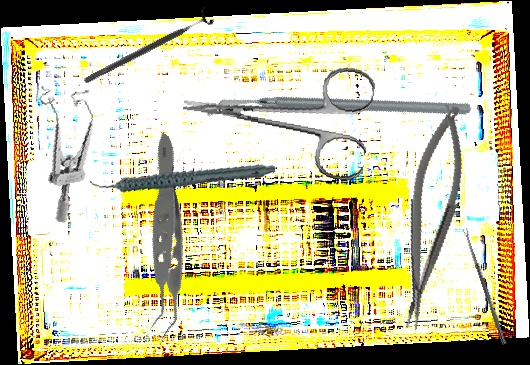Chopper: (206, 3, 474, 216)
Fixation Ring: (79, 4, 216, 91)
Handpiece: (89, 138, 276, 214)
Iris Scissors: (176, 45, 377, 183)
Needle Holder: (382, 101, 478, 333)
Speculum: (27, 74, 116, 226)
Surgical Spoon: (462, 228, 508, 345)
Tissue Forceps: (67, 132, 256, 348)
